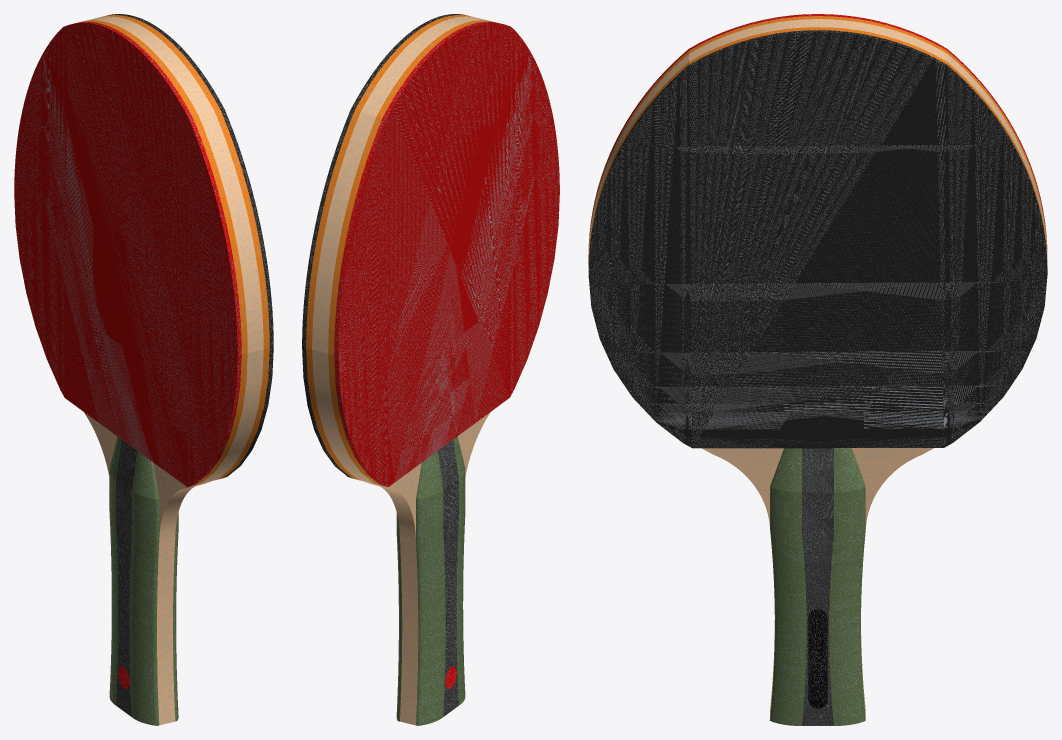
The model's file is Racket.dae.
3 renders of one model, left to right at view 1: azimuth 30°, elevation 25°; view 2: azimuth 150°, elevation 25°; view 3: azimuth 270°, elevation 25°, orthographic. The views are drawn at different scales.
Parts seen in each view (by area): view 1: group_0 (×9); view 2: group_0 (×9); view 3: group_0 (×9).
Part boxes in pixels (x1,y1,x2,y2): group_0 (×9): (14,14,273,725); group_0 (×9): (302,14,559,725); group_0 (×9): (588,14,1047,725).
Bounding box in the file's own units: 0.6261 × 6 × 9.99.
